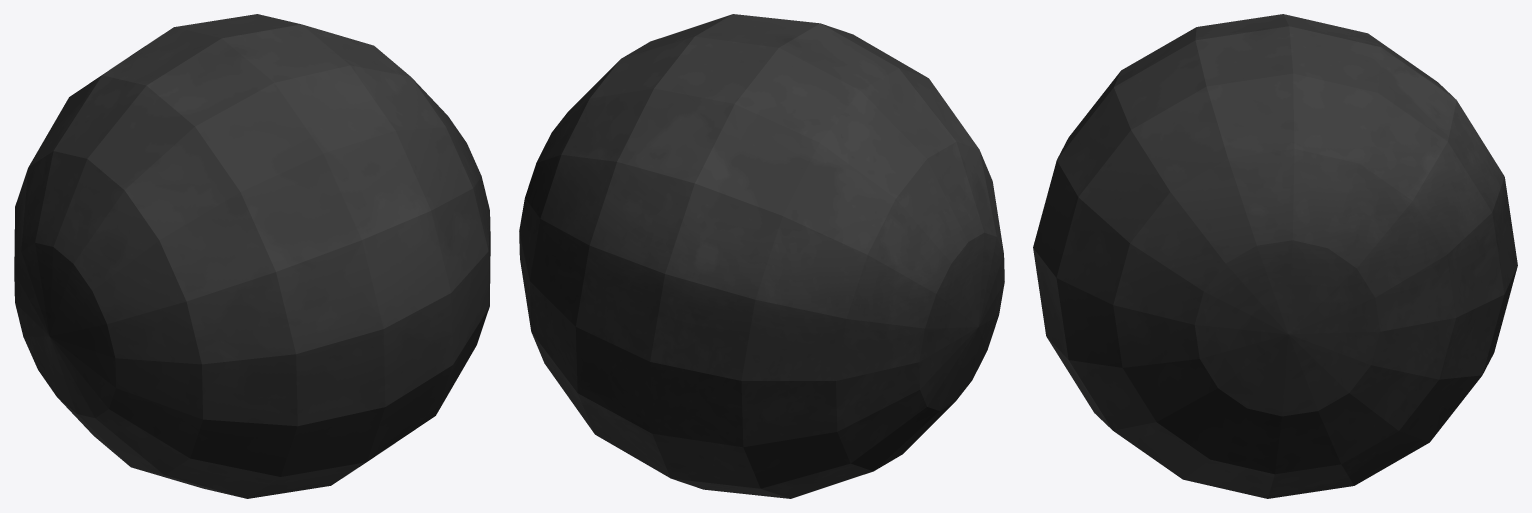
The model's file is cannonball_v1.fbx.
3 views of the same model, side by side, from view 1: azimuth 30°, elevation 25°; view 2: azimuth 150°, elevation 25°; view 3: azimuth 270°, elevation 25° (orthographic).
Parts seen in each view (by area): view 1: Sphere.001; view 2: Sphere.001; view 3: Sphere.001.
Boxes of the visible parts, x1,y1,x2,y2 form: Sphere.001: (14, 14, 490, 498); Sphere.001: (519, 14, 1004, 498); Sphere.001: (1033, 14, 1517, 498).
Size of the model in its own units: 127 by 127 by 127.
